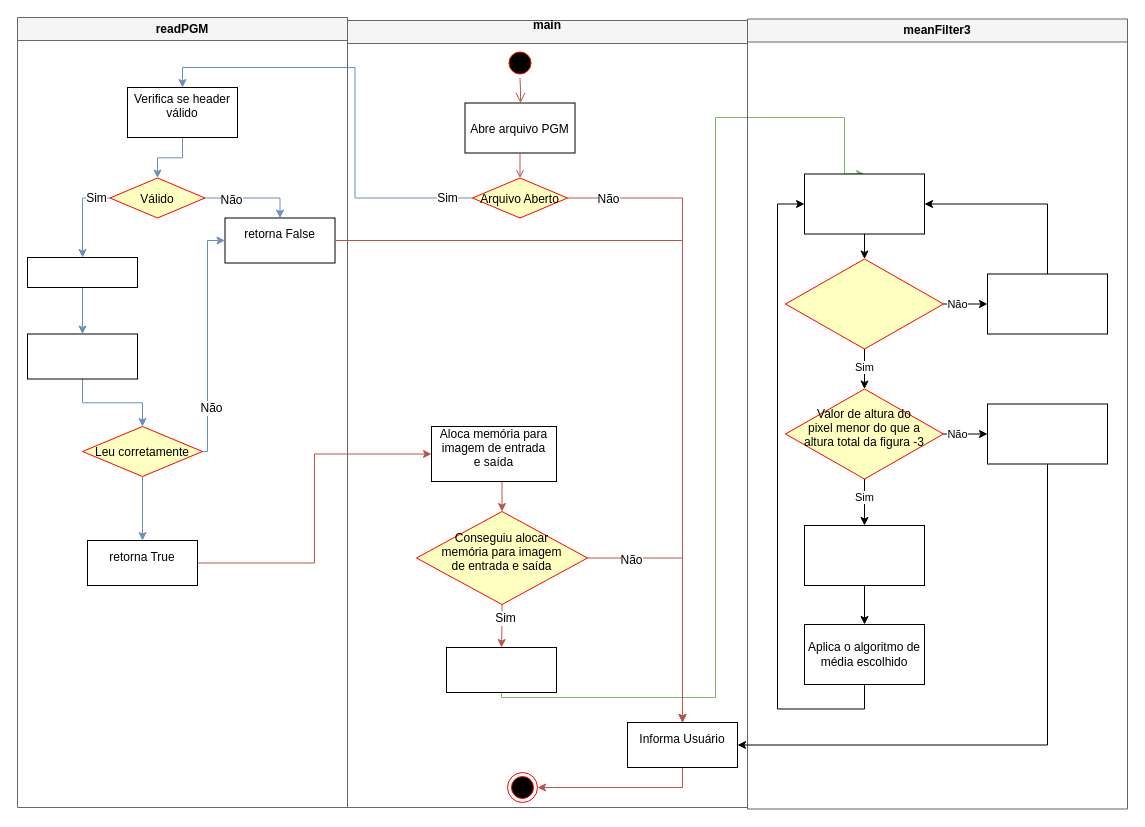
This 1145x827 diagram has some shape labels left out. Here are the shapes that lost their labels. From the top down, the box of each, then its label:
(804, 173, 924, 234): Escolhe o pixel inicial para a mascara
(26, 256, 138, 288): Lê comentário
(784, 258, 944, 349): Valor de largura do pixel menor do que a largura total da figura -3
(986, 273, 1108, 334): Escolhe o primeiro pixel da próxima linha
(26, 333, 138, 379): Lê e armazena tamanho
(986, 403, 1108, 464): Retorna a imagem adquirida
(804, 524, 924, 586): Lê dos 9 pixels usados no mean filter
(446, 646, 556, 692): Carrega Imagem de entrada para buffer
